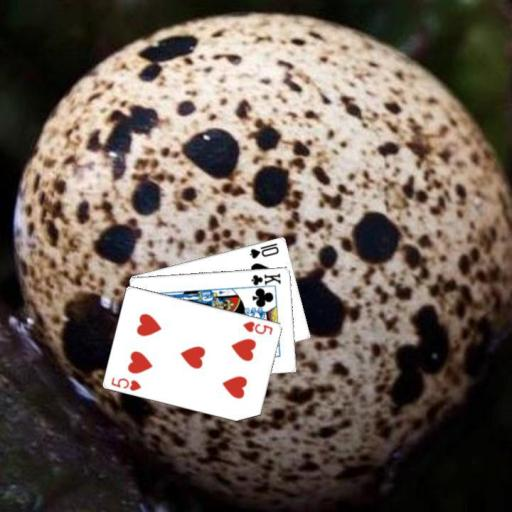10S: (247, 240, 280, 260)
5H: (108, 374, 143, 392), (241, 318, 275, 336)
KC: (246, 271, 283, 290)
